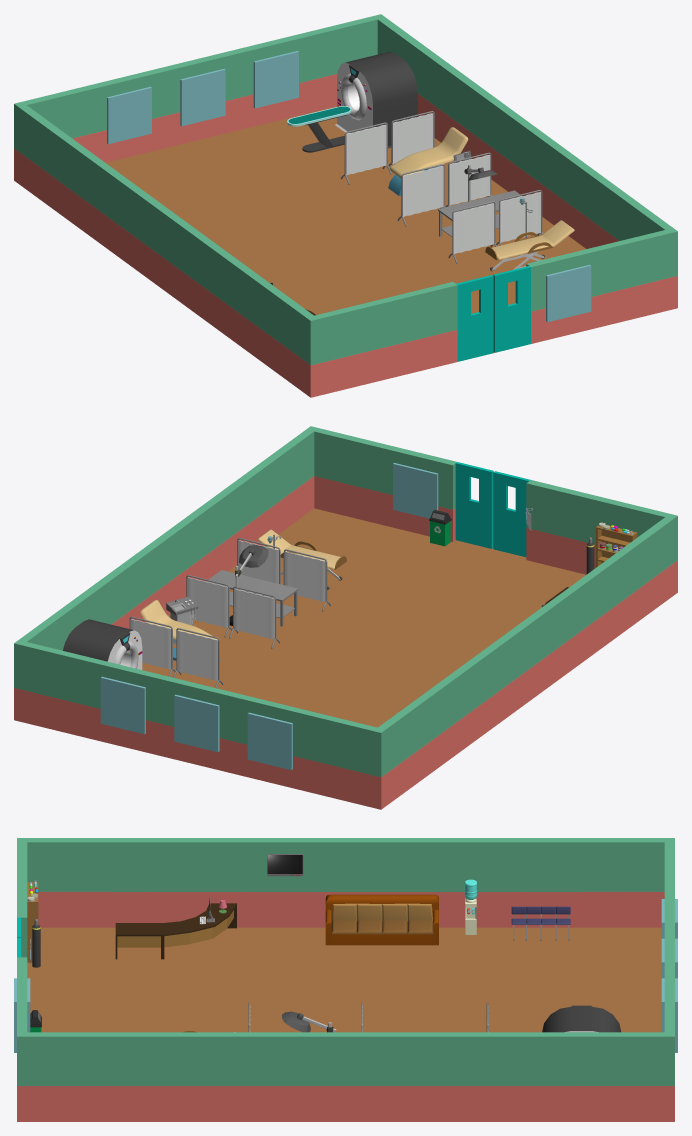
Rendered from hospital.glb.
The picture shows the model from 3 angles, top to bottom: view 1: azimuth 30°, elevation 25°; view 2: azimuth 150°, elevation 25°; view 3: azimuth 270°, elevation 25°; orthographic projection. The views are drawn at different scales.
Visible parts, largest first — view 1: floor_12, wall.001_0, window.001_4, wall_corner_16, wall_corner.001_1, mrt_40, window_13, wall_11, wall_corner.002_2, wall_corner.003_3, door.001_14, door_15 (+9 smaller); view 2: floor_12, wall.001_0, window.001_4, wall_corner.002_2, wall_corner.001_1, wall_corner.003_3, window_13, wall_11, wall_corner_16, door.001_14, mrt_40, door_15 (+12 smaller); view 3: wall.001_0, floor_12, wall_corner.001_1, wall_corner.003_3, wall_corner.002_2, wall_corner_16, sofa_31, window.001_4, desk_quarter_30, mrt_40, desk_29, chairs_28 (+6 smaller).
Part boxes in pixels (x1,y1,x2,y2): floor_12: (105,106,586,352); wall.001_0: (56,45,634,366); window.001_4: (87,32,312,162); wall_corner_16: (268,288,384,397); wall_corner.001_1: (600,200,677,325); mrt_40: (287,51,417,152); window_13: (526,246,604,343); wall_11: (380,282,457,379); wall_corner.002_2: (14,86,91,210); wall_corner.003_3: (308,14,423,112); door.001_14: (493,266,530,352); door_15: (456,275,493,361); floor_12: (142,508,586,727); wall.001_0: (57,457,635,778); window.001_4: (87,658,311,791); wall_corner.002_2: (307,700,423,809); wall_corner.001_1: (268,426,383,534); wall_corner.003_3: (14,612,91,737); window_13: (379,444,456,541); wall_11: (526,480,604,574); wall_corner_16: (600,498,677,622); door.001_14: (455,462,493,548); mrt_40: (63,619,142,669); door_15: (493,471,530,557); wall.001_0: (111,838,580,1121); floor_12: (27,927,661,1032); wall_corner.001_1: (17,997,110,1121); wall_corner.003_3: (581,997,674,1121); wall_corner.002_2: (581,838,674,927); wall_corner_16: (17,838,110,927); sofa_31: (325,894,438,945); window.001_4: (661,878,677,1052); desk_quarter_30: (162,903,236,959); mrt_40: (542,1005,620,1032); desk_29: (115,923,162,959); chairs_28: (511,906,570,940).
Bounding box in the file's own units: 10 × 2 × 14.13.
4 materials, 3 textured.
